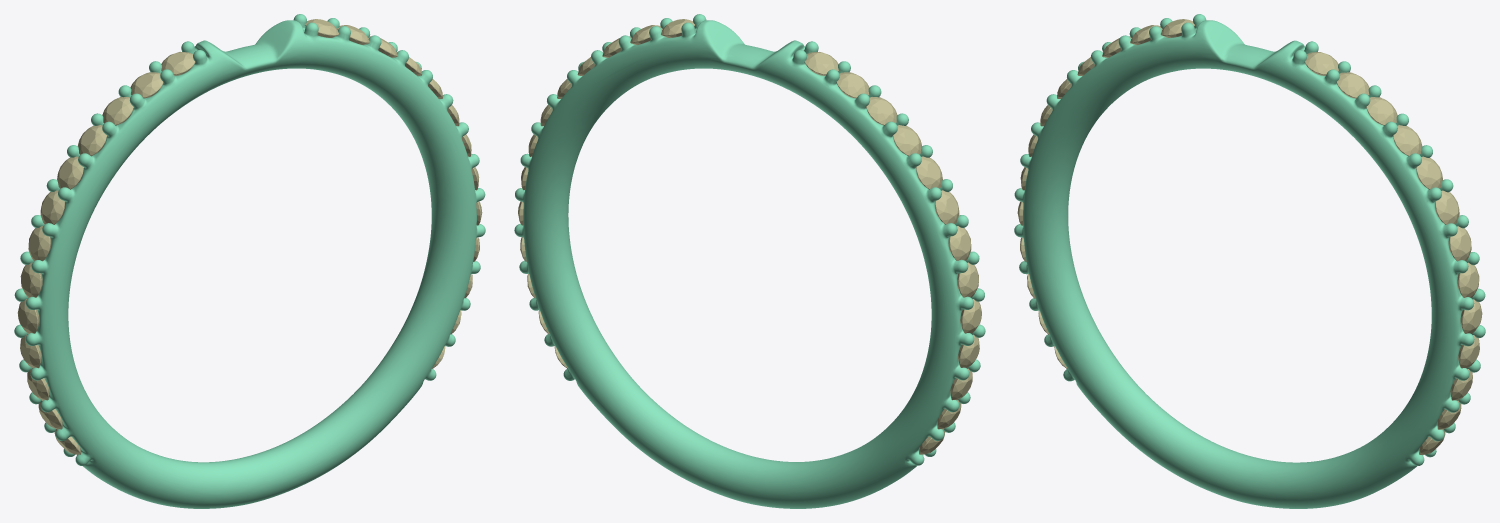
3 renders of one model, left to right at view 1: azimuth 30°, elevation 25°; view 2: azimuth 150°, elevation 25°; view 3: azimuth 330°, elevation 25°, orthographic.
Parts seen in each view (by area): view 1: Metal02, Diamond_Gem.009, Diamond_Gem.008, Diamond_Gem.010, Diamond_Gem.007, Diamond_Gem.011, Diamond_Gem.006, Diamond_Gem.012, Diamond_Gem.005; view 2: Metal02, Diamond_Gem.008, Diamond_Gem.009, Diamond_Gem.010, Diamond_Gem.007, Diamond_Gem.011, Diamond_Gem.006, Diamond_Gem.012, Diamond_Gem.005; view 3: Metal02, Diamond_Gem.016, Diamond_Gem.025, Diamond_Gem.015, Diamond_Gem.017, Diamond_Gem.014, Diamond_Gem.018, Diamond_Gem.013, Diamond_Gem.019.
Boxes of the visible parts, left/top/right/bottom form: Metal02: left=14, top=14, right=485, bottom=508; Diamond_Gem.009: left=78, top=125, right=106, bottom=156; Diamond_Gem.008: left=57, top=156, right=83, bottom=189; Diamond_Gem.010: left=102, top=97, right=133, bottom=125; Diamond_Gem.007: left=40, top=190, right=64, bottom=224; Diamond_Gem.011: left=130, top=72, right=163, bottom=98; Diamond_Gem.006: left=28, top=226, right=51, bottom=261; Diamond_Gem.012: left=161, top=51, right=195, bottom=75; Diamond_Gem.005: left=20, top=262, right=42, bottom=297; Metal02: left=514, top=14, right=985, bottom=508; Diamond_Gem.008: left=916, top=156, right=942, bottom=189; Diamond_Gem.009: left=892, top=125, right=921, bottom=156; Diamond_Gem.010: left=866, top=97, right=897, bottom=125; Diamond_Gem.007: left=935, top=190, right=959, bottom=224; Diamond_Gem.011: left=836, top=72, right=869, bottom=98; Diamond_Gem.006: left=948, top=226, right=971, bottom=260; Diamond_Gem.012: left=804, top=52, right=838, bottom=75; Diamond_Gem.005: left=957, top=262, right=978, bottom=297; Metal02: left=1014, top=14, right=1485, bottom=508; Diamond_Gem.016: left=1393, top=125, right=1422, bottom=156; Diamond_Gem.025: left=1416, top=156, right=1442, bottom=189; Diamond_Gem.015: left=1366, top=97, right=1397, bottom=125; Diamond_Gem.017: left=1435, top=190, right=1459, bottom=224; Diamond_Gem.014: left=1336, top=72, right=1369, bottom=98; Diamond_Gem.018: left=1448, top=226, right=1471, bottom=261; Diamond_Gem.013: left=1304, top=52, right=1338, bottom=75; Diamond_Gem.019: left=1457, top=262, right=1479, bottom=297.
Size of the model in its own units: 21.56 by 21.07 by 1.89.
